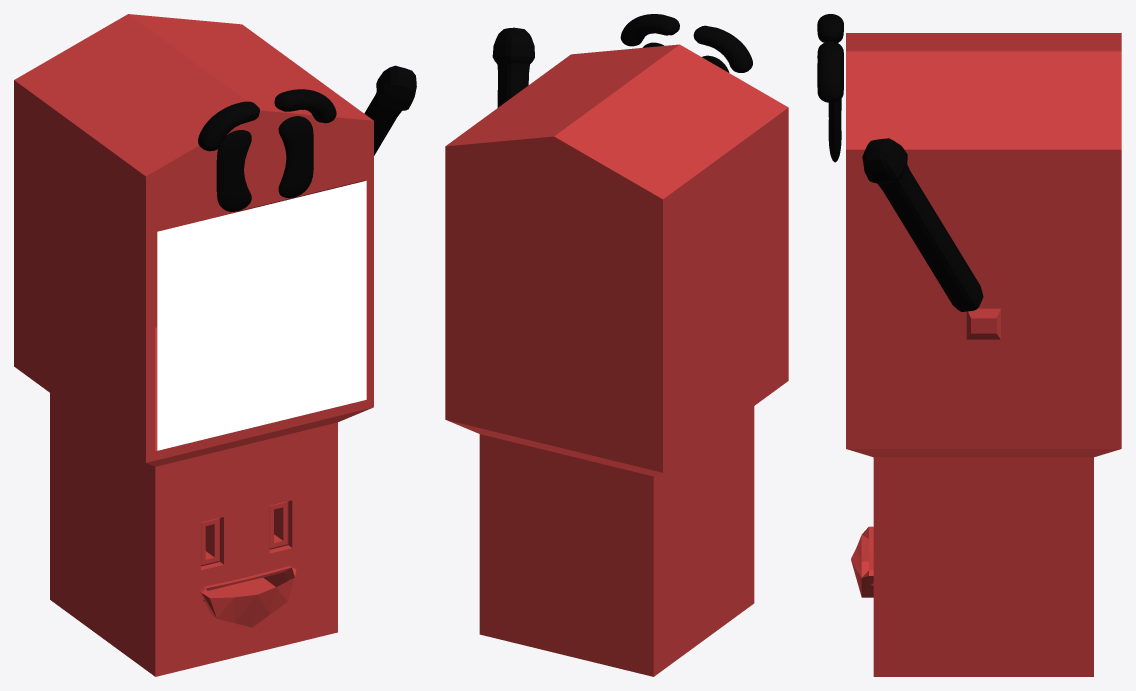
The model's file is tragaperras-solo.gltf.
3 views of the same model, side by side, from view 1: azimuth 30°, elevation 25°; view 2: azimuth 150°, elevation 25°; view 3: azimuth 270°, elevation 25° (orthographic). The views are drawn at different scales.
Visible parts, largest first — view 1: Cube, Plane, Cube.1, ojo, ojo 1, Polygon 1, Polygon; view 2: Cube, Cube.1, Polygon 1, Polygon; view 3: Cube, Cube.1, Polygon, ojo, Polygon 1.
Part boxes in pixels (bbox=[...]): Cube: bbox=[14, 14, 373, 676]; Plane: bbox=[157, 180, 366, 450]; Cube.1: bbox=[364, 65, 416, 155]; ojo: bbox=[278, 116, 313, 198]; ojo 1: bbox=[216, 130, 251, 211]; Polygon 1: bbox=[198, 101, 259, 151]; Polygon: bbox=[274, 89, 336, 123]; Cube: bbox=[445, 44, 788, 676]; Cube.1: bbox=[492, 27, 534, 107]; Polygon 1: bbox=[693, 25, 752, 72]; Polygon: bbox=[620, 14, 679, 46]; Cube: bbox=[846, 33, 1121, 676]; Cube.1: bbox=[862, 138, 983, 311]; Polygon: bbox=[817, 41, 843, 102]; ojo: bbox=[828, 99, 841, 162]; Polygon 1: bbox=[817, 14, 843, 42].
Bounding box in the file's own units: 31.5 × 59.83 × 27.6.
